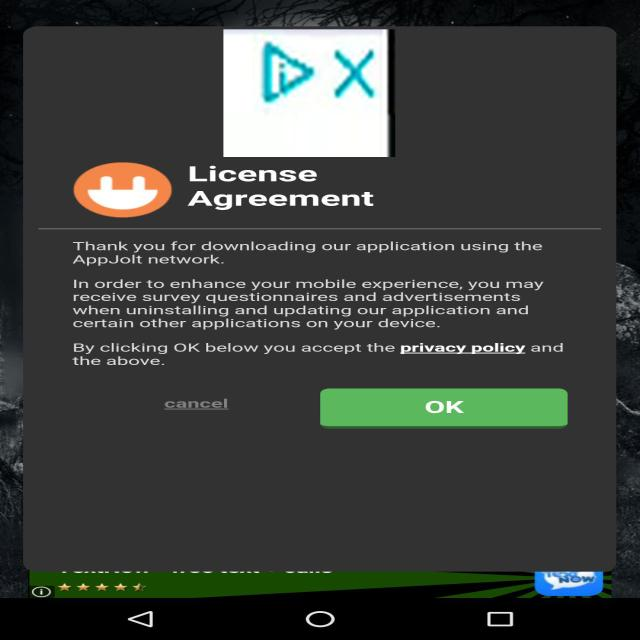sneaking: (224, 29, 396, 157)
